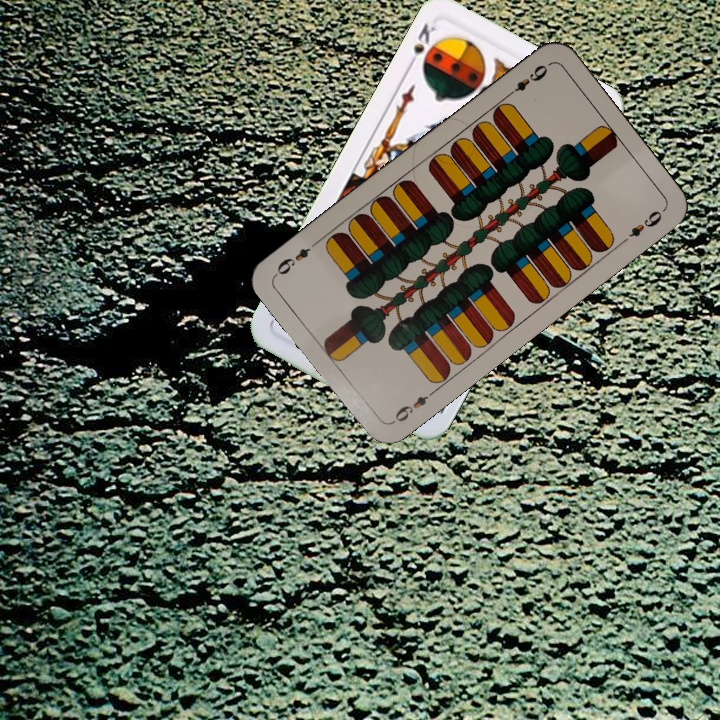E9: (388, 386, 438, 427), (501, 60, 550, 101)
SK: (403, 19, 438, 72)
